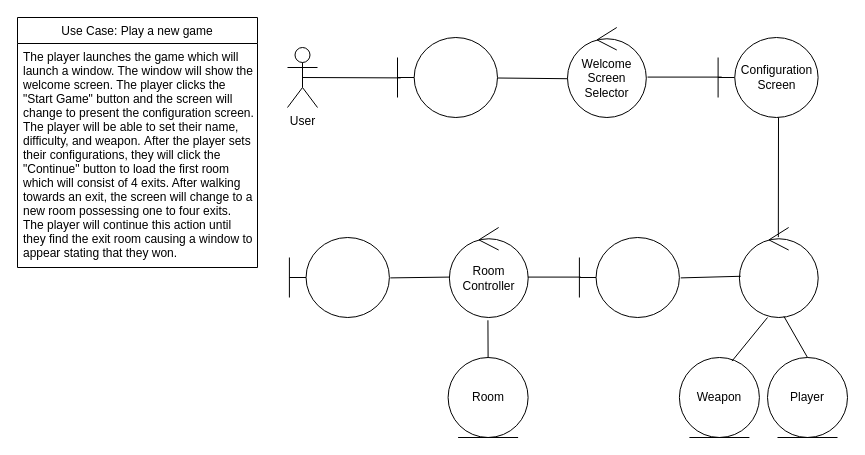
Some shapes in this 865 by 455 pixel diagram are drawn without their labels. Each missing label, with the box of its shape:
Configuration Selector: (738, 226, 818, 318)
Room Screen: (578, 236, 679, 318)
Welcome Screen: (396, 36, 498, 118)
Winner Screen: (288, 236, 389, 318)
